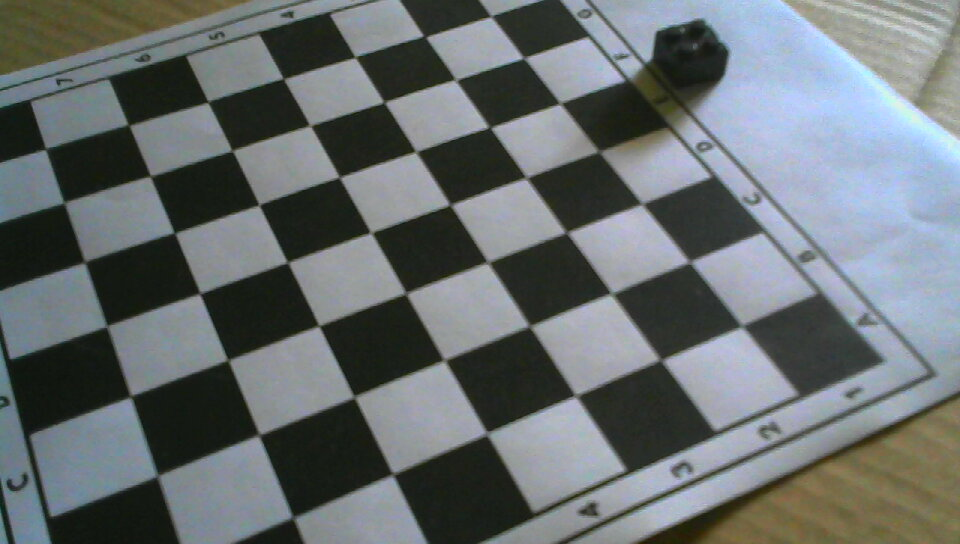bp: (653, 18, 731, 88)
